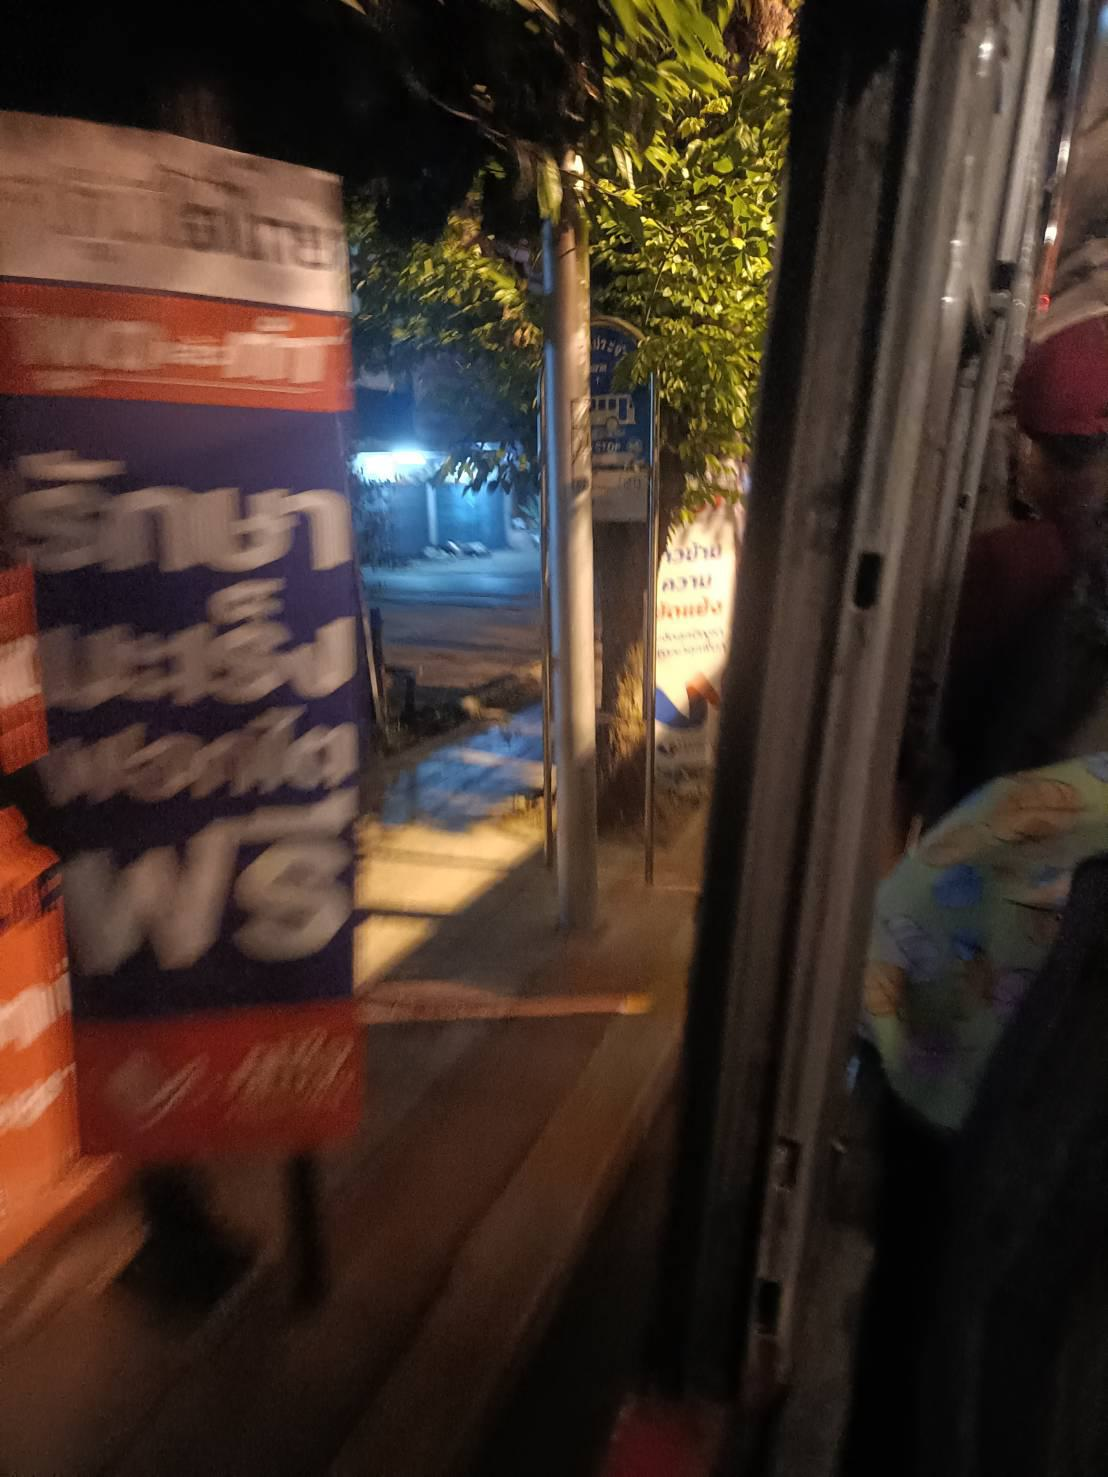Banner: (3, 105, 379, 1172)
